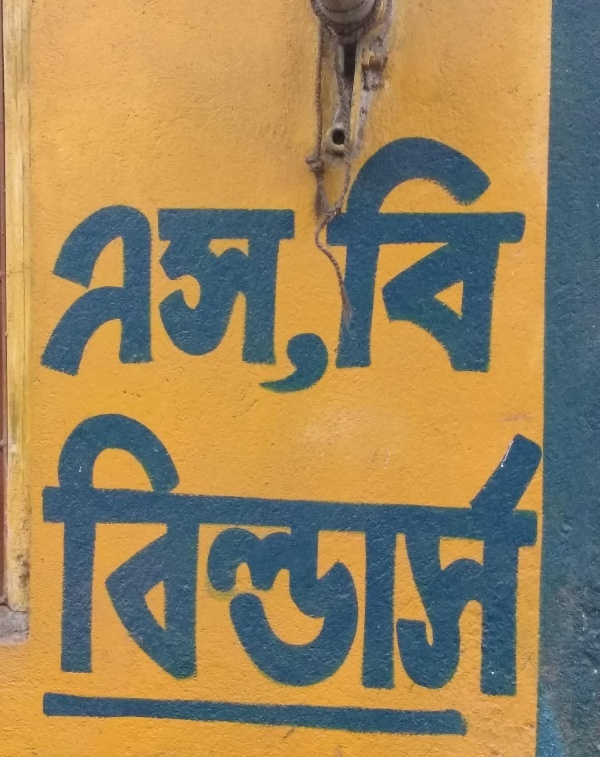text: (33, 386, 48, 700), (49, 386, 64, 700), (65, 386, 80, 700), (81, 386, 96, 700), (97, 386, 112, 700), (113, 386, 128, 700), (129, 386, 144, 700), (145, 386, 160, 700), (161, 386, 176, 700), (177, 386, 192, 700), (193, 386, 208, 700), (209, 386, 224, 700), (225, 386, 240, 700), (241, 386, 256, 700), (257, 386, 272, 700), (273, 386, 288, 700), (289, 386, 304, 700), (305, 386, 320, 700), (321, 386, 336, 700), (337, 386, 352, 700), (353, 386, 368, 700), (369, 386, 384, 700), (385, 386, 400, 700), (401, 386, 416, 700), (417, 386, 432, 700), (433, 386, 448, 700), (449, 386, 464, 700), (465, 386, 480, 700), (481, 386, 496, 700), (497, 386, 512, 700), (513, 386, 528, 700), (529, 386, 544, 700), (81, 127, 96, 405), (97, 127, 112, 405), (113, 127, 128, 405), (129, 127, 144, 405), (145, 127, 160, 405), (161, 127, 176, 405), (177, 127, 192, 405), (193, 127, 208, 405), (209, 127, 224, 405), (225, 127, 240, 405), (241, 127, 256, 405), (257, 127, 272, 405), (273, 127, 288, 405), (289, 127, 304, 405), (305, 127, 320, 405), (321, 127, 336, 405), (337, 127, 352, 405), (353, 127, 368, 405), (369, 127, 384, 405), (385, 127, 400, 405), (401, 127, 416, 405), (417, 127, 432, 405), (433, 127, 448, 405), (449, 127, 464, 405), (465, 127, 480, 405), (481, 127, 496, 405), (497, 127, 512, 405), (513, 127, 528, 405), (529, 127, 544, 405), (66, 127, 80, 405), (545, 386, 551, 700), (545, 127, 550, 405), (29, 386, 32, 700)
